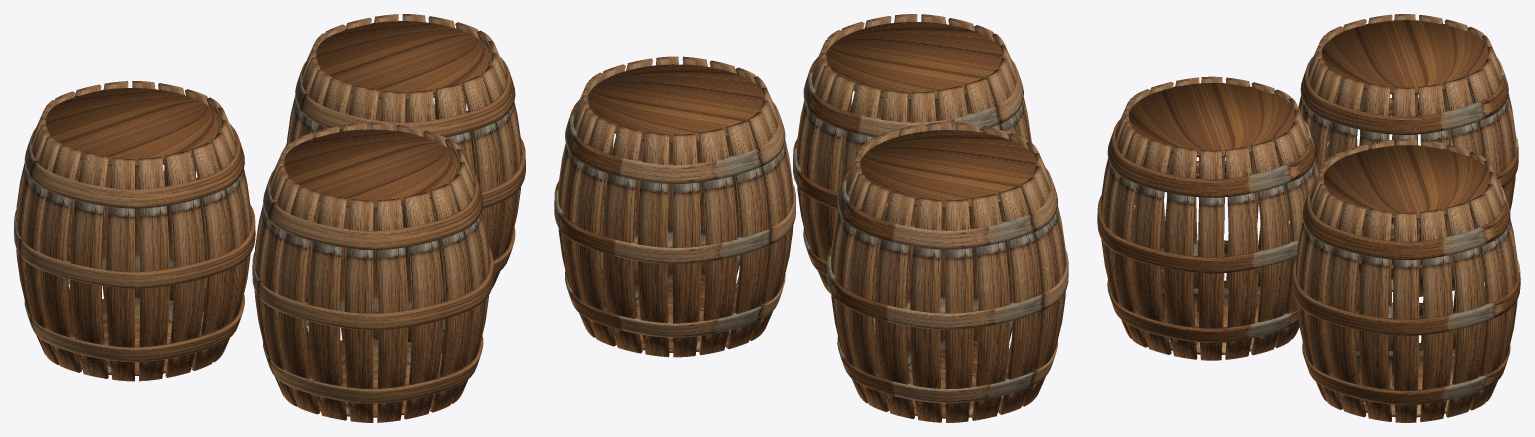
File: Barril.obj
3 renders of one model, left to right at view 1: azimuth 30°, elevation 25°; view 2: azimuth 150°, elevation 25°; view 3: azimuth 270°, elevation 25°, orthographic. The views are drawn at different scales.
Parts seen in each view (by area): view 1: Cylinder03; view 2: Cylinder03; view 3: Cylinder03.
Part boxes in pixels (x1,y1,x2,y2): Cylinder03: (14, 14, 525, 422); Cylinder03: (554, 14, 1068, 422); Cylinder03: (1097, 14, 1520, 422).
Size of the model in its own units: 231 by 100 by 184.
